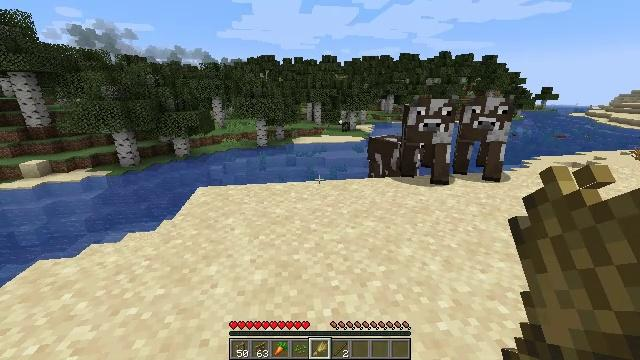cow: (457, 97, 516, 174), (405, 98, 454, 185), (368, 129, 420, 179), (342, 121, 350, 133)
